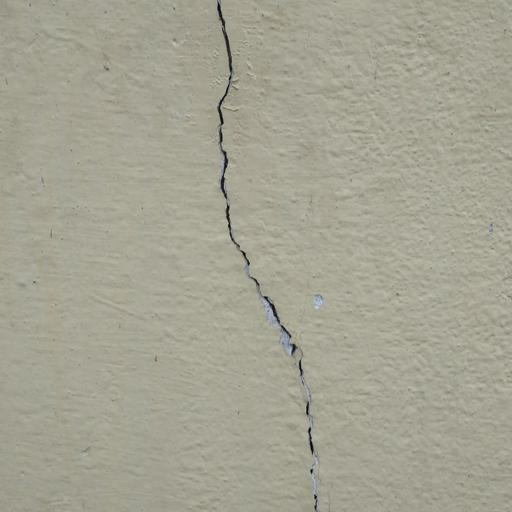major_crack: (200, 0, 341, 512)
